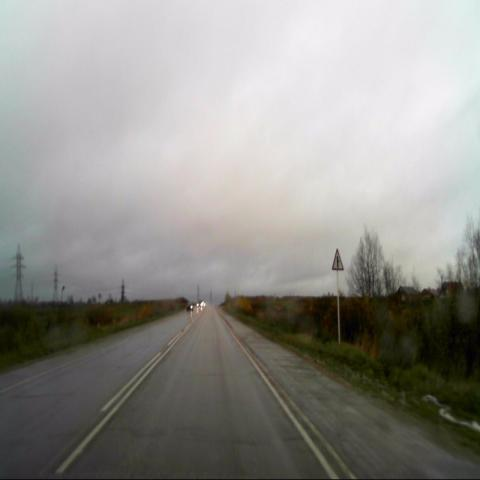2_3_2: (331, 248, 344, 272)
